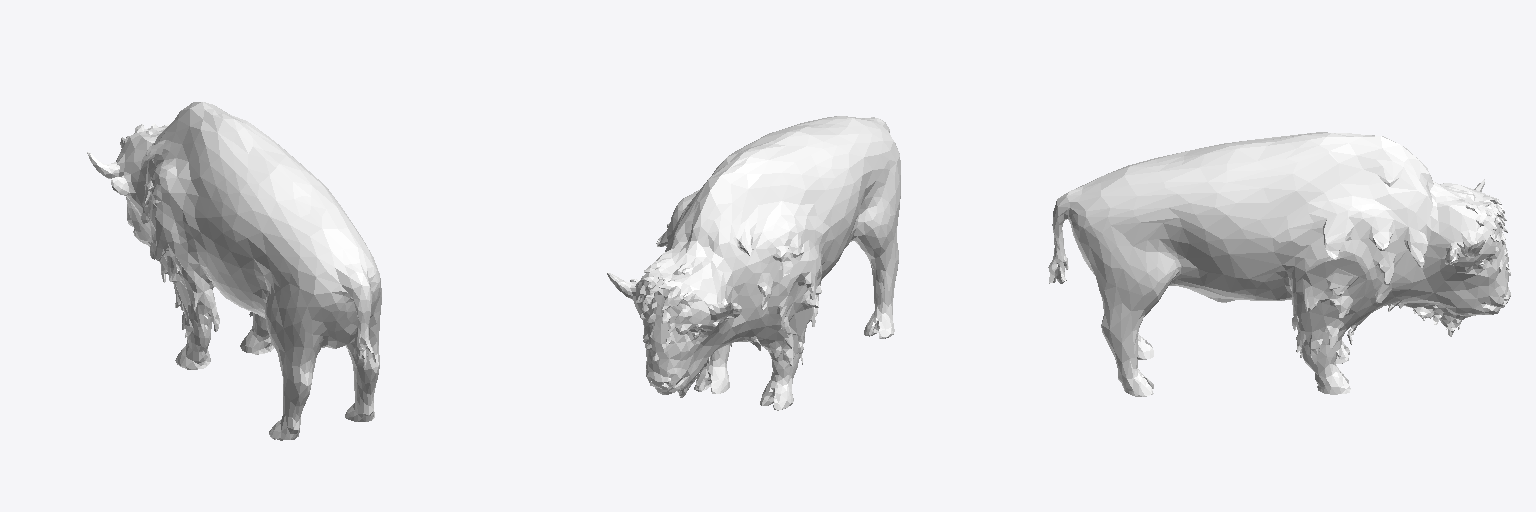
The model's file is Bison.obj.
3 renders of one model, left to right at view 1: azimuth 30°, elevation 25°; view 2: azimuth 150°, elevation 25°; view 3: azimuth 270°, elevation 25°, orthographic.
Parts seen in each view (by area): view 1: Bison; view 2: Bison; view 3: Bison.
Part boxes in pixels (x1,y1,x2,y2): Bison: (87, 102, 381, 440); Bison: (607, 116, 900, 410); Bison: (1048, 132, 1510, 396).
Size of the model in its own units: 0.3675 by 0.5712 by 1.